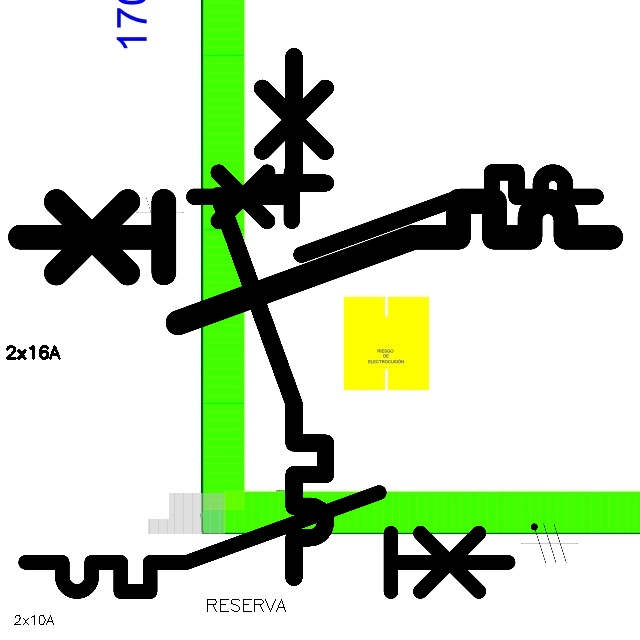interruptor_termomagnetico: (5, 186, 626, 338), (205, 43, 339, 591), (13, 480, 521, 604), (183, 162, 605, 265)
